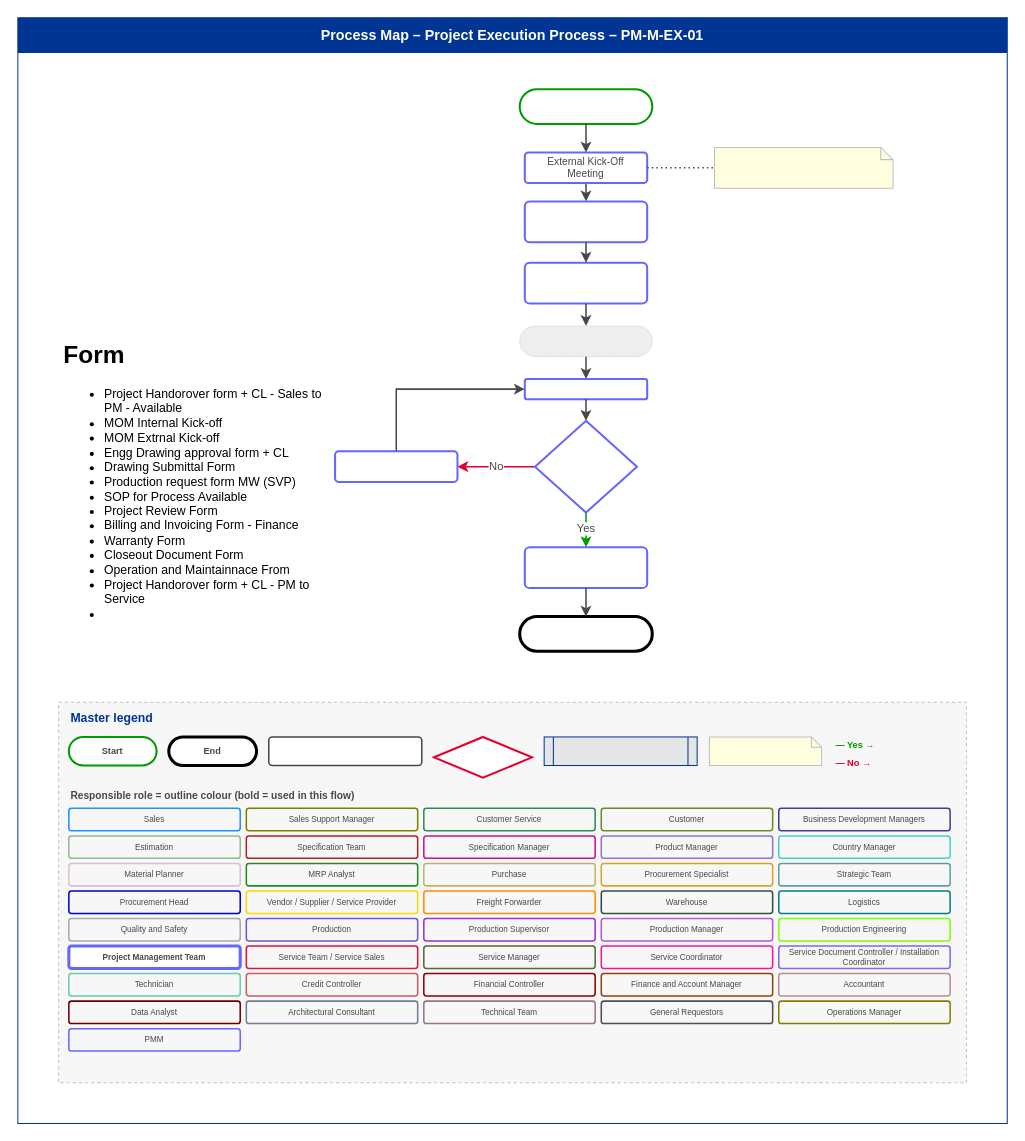
The diagram is 1025 pixels wide and 1141 high, and some of its shapes have lost their labels. Here are the shapes that lost their labels. From the top down, the centre of each, then its label:
the point at 585,106: Execution
the point at 803,167: Record Minutes of meetings in the template provided and share with Attendees
the point at 585,221: Review & Finalization [Design, Products] with Stakeholders
the point at 585,282: Initiate Product & Service Procurement / Production
the point at 585,340: Subcontracting Ref S#: PP-M-VA-01
the point at 585,388: Order Tracking
the point at 396,466: Escalate to meet the target!
the point at 585,466: Order on Track?
the point at 585,567: Supports and Structure procurement & Site preparation
the point at 585,633: Monitor & Control
the point at 345,751: Activity (outline = role)
the point at 482,756: Decision
the point at 620,751: Linked process (Ref ID)
the point at 765,751: Note / checklist
